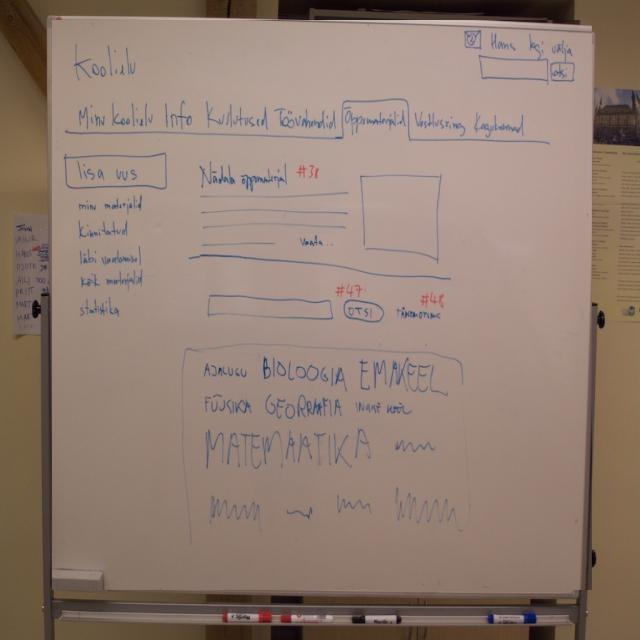Whiteboard: (44, 13, 595, 598)
